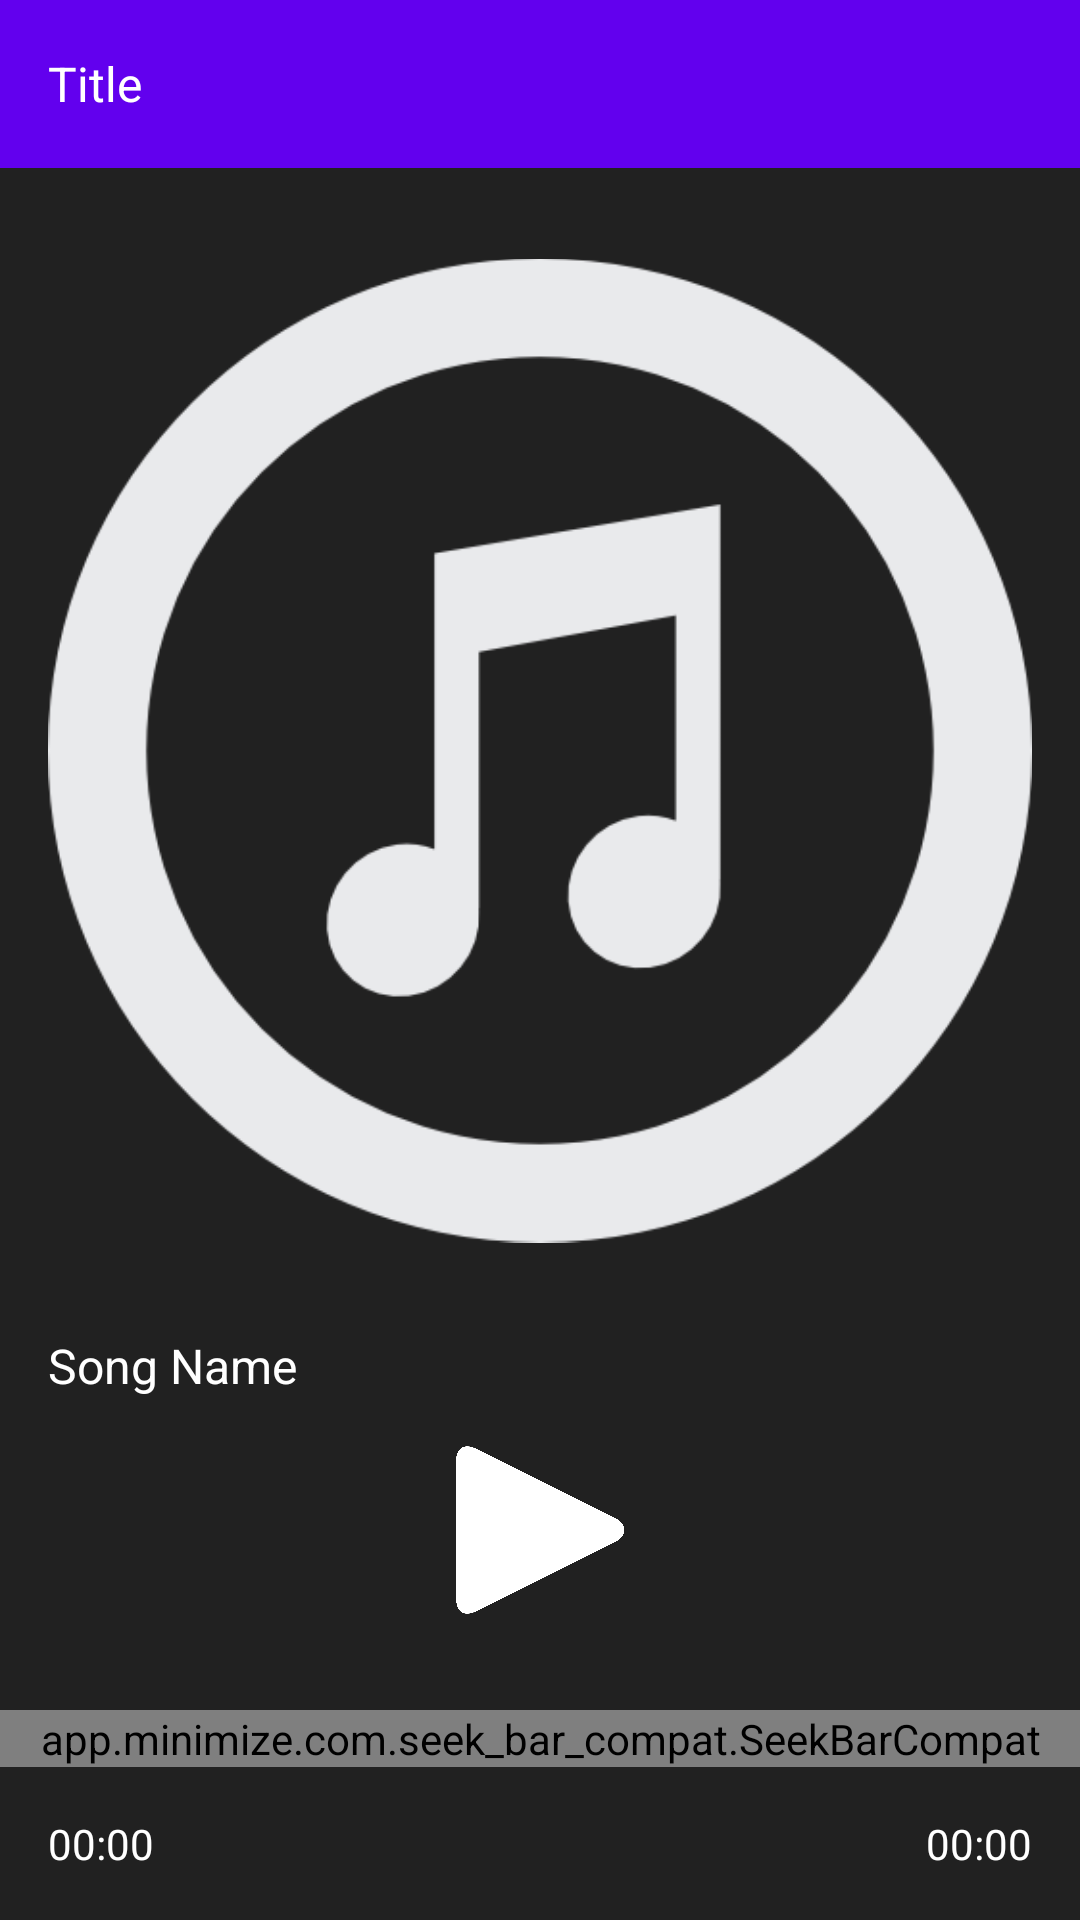

Locate icon controls on the screen. Image size 1080 × 1920, boxes as (x1, y1, x2, y2).
play: (456, 1446, 624, 1614)
